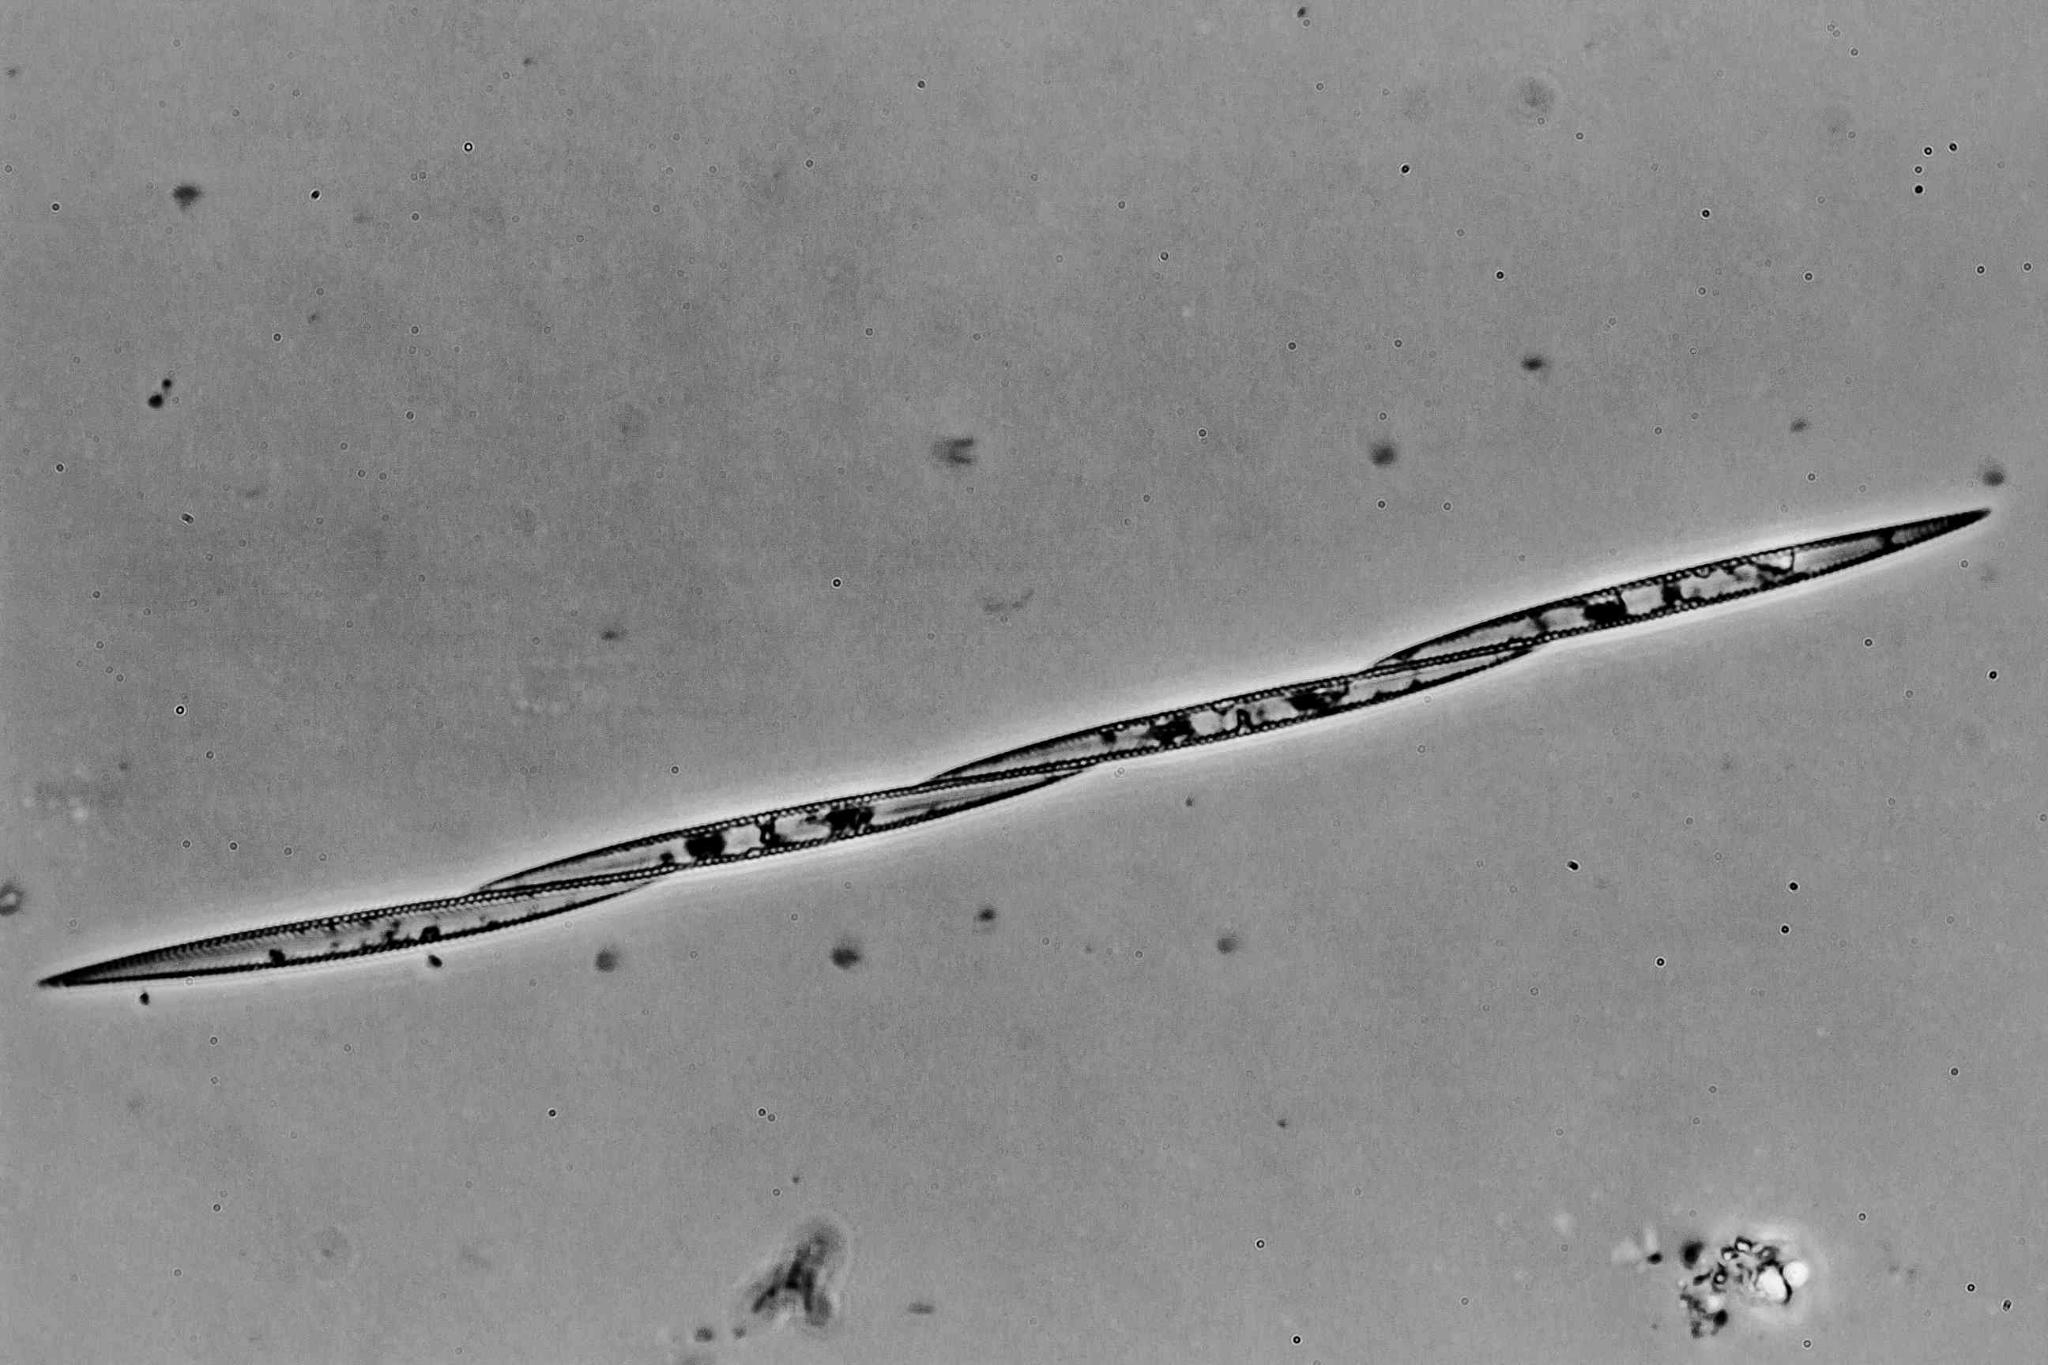pseudo_nitzschia: (35, 507, 2007, 989)
